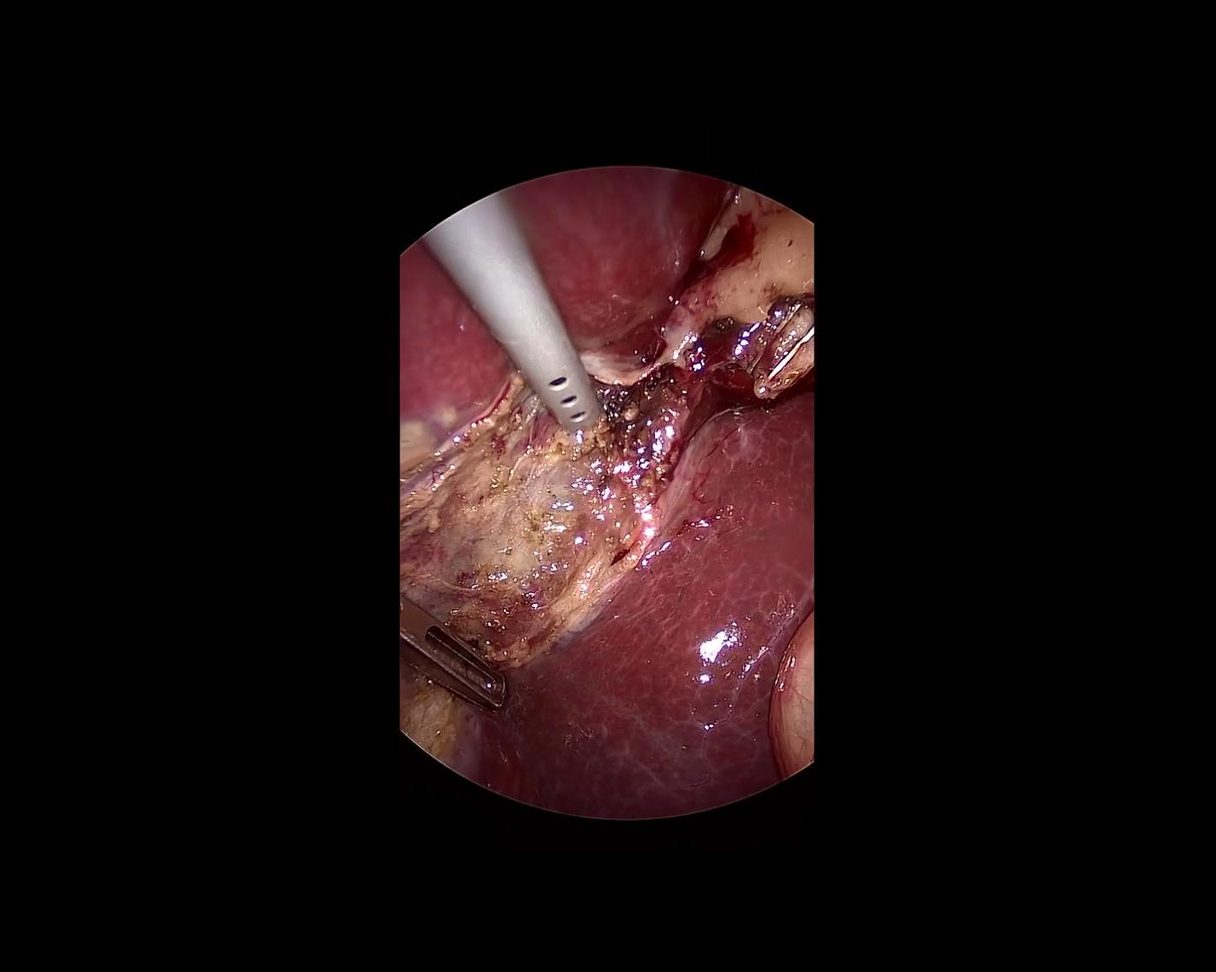Forceps: (367, 591, 527, 727)
Liver: (465, 340, 851, 851), (307, 87, 766, 469)
Suction: (416, 190, 610, 459)
